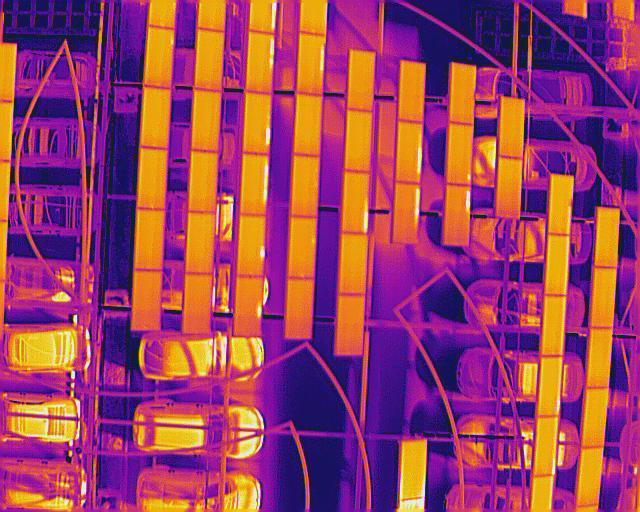Cell: (233, 276, 264, 337), (236, 214, 265, 275), (446, 122, 471, 185)
No-Anomaly: (130, 270, 161, 331), (185, 212, 215, 273), (135, 208, 164, 271), (183, 274, 212, 336), (141, 86, 170, 147), (137, 149, 166, 210), (291, 154, 319, 217), (338, 232, 366, 295), (285, 278, 313, 340), (294, 93, 322, 155), (192, 90, 220, 151), (145, 26, 172, 88), (288, 217, 315, 279), (190, 149, 217, 211), (336, 295, 363, 356), (195, 29, 222, 90), (577, 448, 604, 507), (590, 268, 616, 329), (348, 50, 374, 111), (346, 110, 371, 172), (582, 387, 608, 446), (496, 157, 521, 218), (400, 61, 425, 122), (586, 329, 611, 388), (499, 98, 524, 157), (594, 209, 619, 267), (549, 174, 572, 234), (450, 65, 474, 122), (546, 232, 568, 294), (543, 294, 564, 356)
Unclassified: (246, 32, 274, 93), (341, 170, 368, 232), (240, 153, 267, 215), (243, 90, 270, 152), (297, 32, 324, 93), (392, 183, 419, 243), (396, 121, 422, 182), (532, 416, 558, 476), (444, 184, 469, 245), (400, 440, 426, 498), (536, 357, 561, 414)
